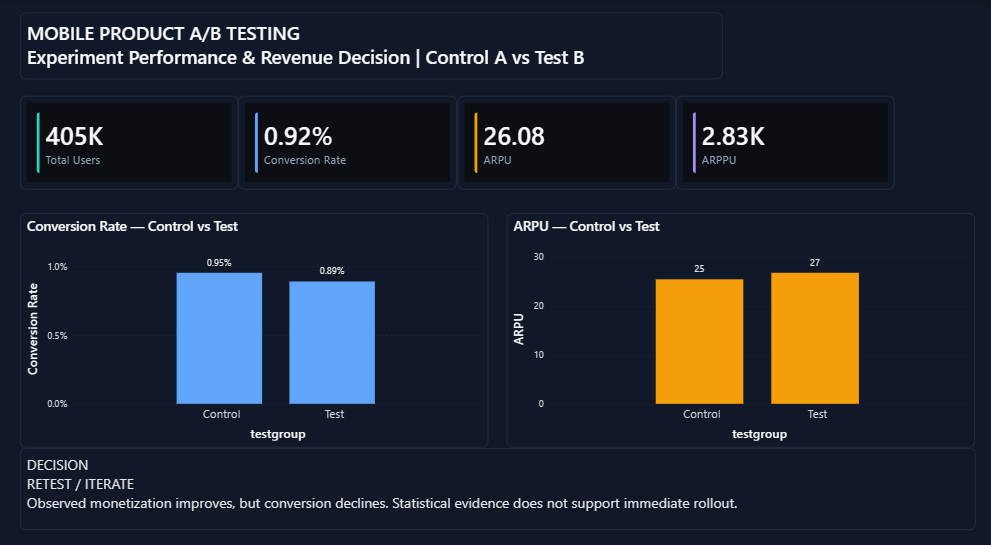

The page's visual inventory and layout, read from the dashboard file:
{"tool":"powerbi","page":{"name":"Experiment Overview","canvas":[1280,720],"ordinal":0},"visuals":[{"type":"textbox","box":[27.9,17.6,899.6,85.1],"z":1000},{"type":"cardVisual","fields":{"Data":["ab_test.Total Users"]},"box":[27.9,123.3,280,120],"z":1000},{"type":"cardVisual","fields":{"Data":["ab_test.Conversion Rate"]},"box":[308.2,123.3,280,120],"z":1000},{"type":"cardVisual","fields":{"Data":["ab_test.ARPU"]},"box":[588.5,123.3,280,120],"z":1000},{"type":"cardVisual","fields":{"Data":["ab_test.ARPPU"]},"box":[868.7,123.3,280,120],"z":1000},{"type":"clusteredColumnChart","title":"Conversion Rate — Control vs Test","fields":{"Category":["ab_test.testgroup"],"Y":["ab_test.Conversion Rate"]},"box":[27.9,274.4,600,300],"z":1000},{"type":"clusteredColumnChart","title":"ARPU — Control vs Test","fields":{"Category":["ab_test.testgroup"],"Y":["ab_test.ARPU"]},"box":[651.6,274.4,600,300],"z":1000},{"type":"textbox","box":[28,575,1224,105],"z":1000}]}

Visuals, with their boxes in screenshot pixels (x1, y1, x2, y2), scaled from the page's 1280x720 canvas onto the 991x545 screenshot:
textbox: 22/13/718/78
cardVisual - ab_test.Total Users: 22/93/238/184
cardVisual - ab_test.Conversion Rate: 239/93/455/184
cardVisual - ab_test.ARPU: 456/93/672/184
cardVisual - ab_test.ARPPU: 673/93/889/184
"Conversion Rate — Control vs Test" clusteredColumnChart: 22/208/486/435
"ARPU — Control vs Test" clusteredColumnChart: 504/208/969/435
textbox: 22/435/969/515
